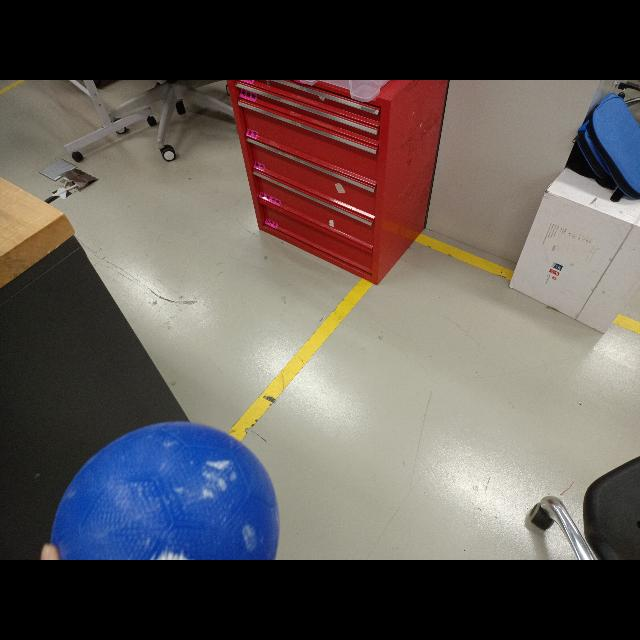B: (48, 422, 280, 560)
